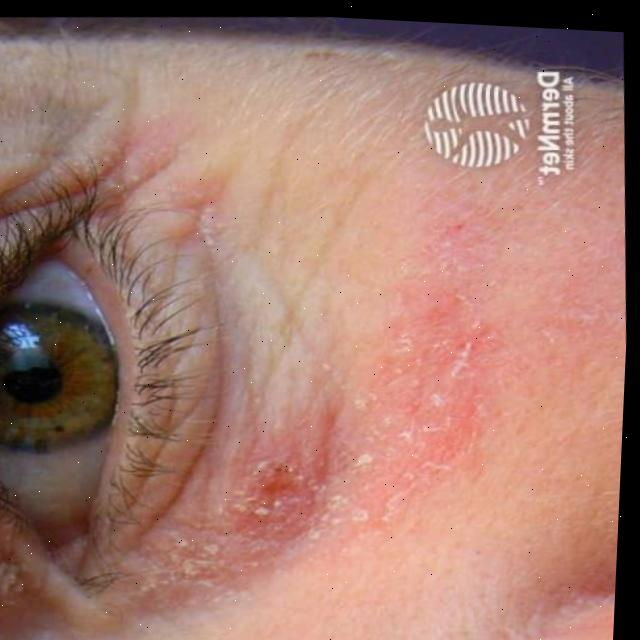Eczema: (196, 177, 489, 600)
